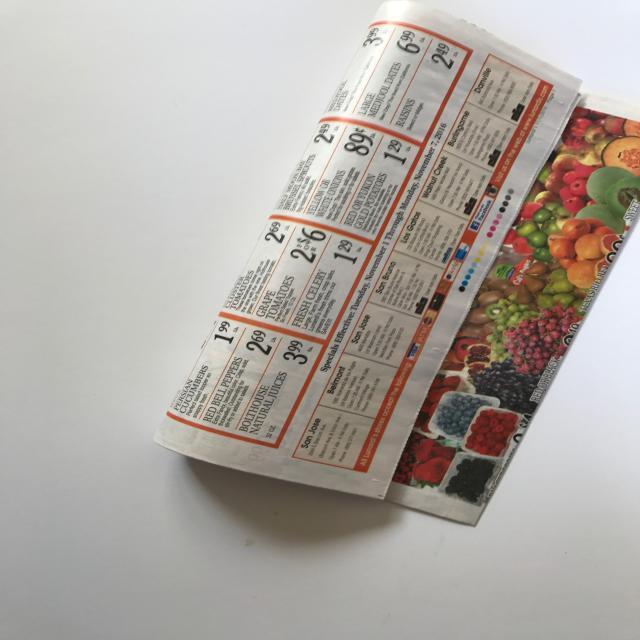paper: (156, 1, 640, 530)
